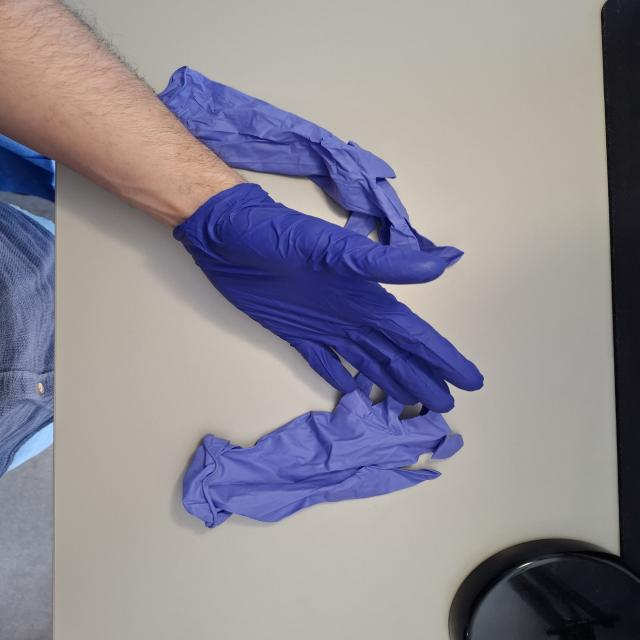glove_on: (169, 179, 488, 417)
